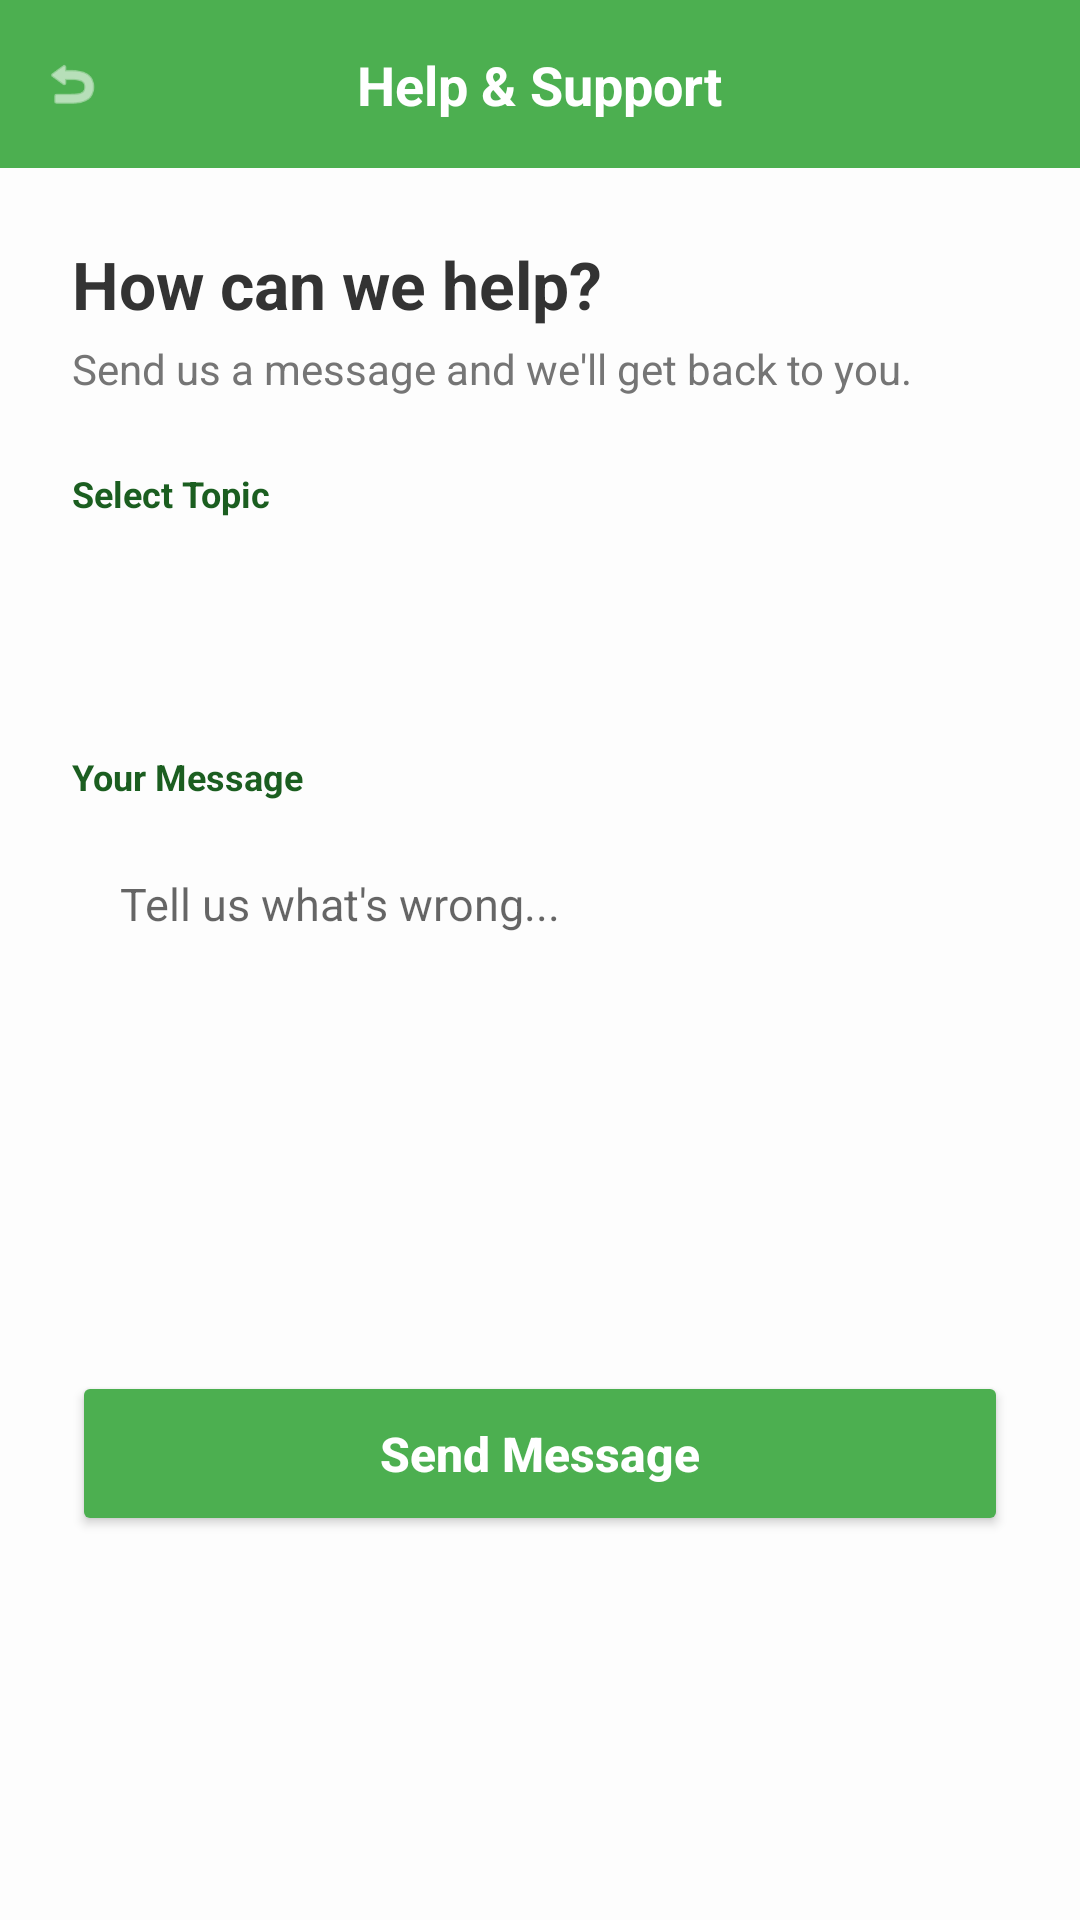

Where icons sit on this 1080 × 1920 app screen, as (x1, y1, x2, y2):
revert: (51, 65, 94, 104)
